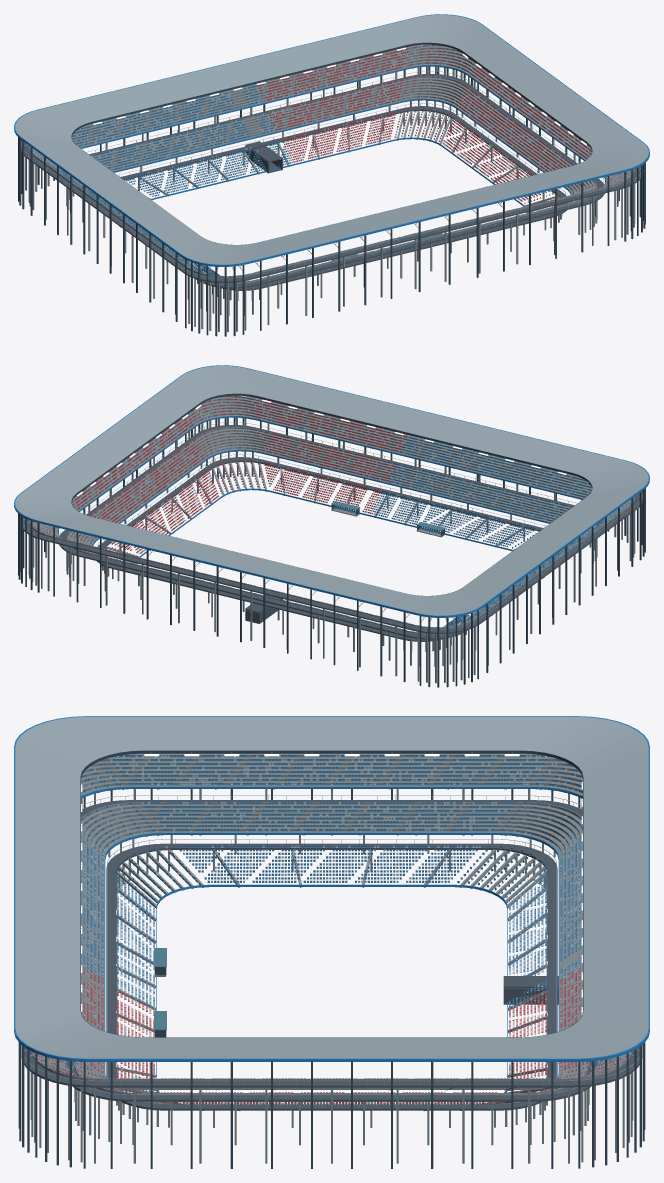
File: classic-upgraded.glb
The picture shows the model from 3 angles, top to bottom: view 1: azimuth 30°, elevation 25°; view 2: azimuth 150°, elevation 25°; view 3: azimuth 270°, elevation 25°; orthographic projection. The views are drawn at different scales.
Visible parts, largest first — view 1: bowl_fixed_Roof silver.001, bowl_fixed_Concrete.001, bowl_fixed_seats_away.001, bowl_fixed_seats_home.001, bowl_fixed_Dark concrete.001, bowl_fixed_seats_neutral.001, bowl_fixed_Trim blue.001, bowl_fixed_Steel navy.001, front_03_Roof silver.001, front_08_Roof silver.001, front_08_Dark concrete.001, front_03_Dark concrete.001 (+18 smaller); view 2: bowl_fixed_Roof silver.001, bowl_fixed_Concrete.001, bowl_fixed_Dark concrete.001, bowl_fixed_Steel navy.001, front_08_Concrete.001, front_03_Concrete.001, front_08_Roof silver.001, front_03_Roof silver.001, bowl_fixed_seats_away.001, bowl_fixed_Trim blue.001, front_06_Concrete.001, front_10_Concrete.001 (+26 smaller); view 3: bowl_fixed_Roof silver.001, bowl_fixed_Concrete.001, bowl_fixed_seats_home.001, bowl_fixed_Dark concrete.001, bowl_fixed_Steel navy.001, bowl_fixed_Trim blue.001, front_03_Roof silver.001, front_08_Roof silver.001, bowl_fixed_seats_neutral.001, front_06_Roof silver.001, bowl_fixed_seats_away.001, front_01_Concrete.001 (+24 smaller).
Part boxes in pixels (<box>): bowl_fixed_Roof silver.001: <box>15,14,641,268</box>; bowl_fixed_Concrete.001: <box>28,44,591,298</box>; bowl_fixed_seats_away.001: <box>256,45,587,202</box>; bowl_fixed_seats_home.001: <box>30,84,291,275</box>; bowl_fixed_Dark concrete.001: <box>21,74,599,279</box>; bowl_fixed_seats_neutral.001: <box>30,45,583,275</box>; bowl_fixed_Trim blue.001: <box>14,14,642,267</box>; bowl_fixed_Steel navy.001: <box>18,42,586,292</box>; front_03_Roof silver.001: <box>247,212,405,281</box>; front_08_Roof silver.001: <box>445,166,624,233</box>; front_08_Dark concrete.001: <box>433,187,619,245</box>; front_03_Dark concrete.001: <box>248,239,403,288</box>; bowl_fixed_Roof silver.001: <box>15,376,641,638</box>; bowl_fixed_Concrete.001: <box>28,412,628,683</box>; bowl_fixed_Dark concrete.001: <box>20,434,637,641</box>; bowl_fixed_Steel navy.001: <box>18,402,593,687</box>; front_08_Concrete.001: <box>250,396,398,495</box>; front_03_Concrete.001: <box>437,447,591,547</box>; front_08_Roof silver.001: <box>247,368,405,484</box>; front_03_Roof silver.001: <box>436,422,624,526</box>; bowl_fixed_seats_away.001: <box>33,432,227,586</box>; bowl_fixed_Trim blue.001: <box>14,375,643,626</box>; front_06_Concrete.001: <box>357,432,458,516</box>; front_10_Concrete.001: <box>187,395,269,494</box>; bowl_fixed_Roof silver.001: <box>88,716,648,1107</box>; bowl_fixed_Concrete.001: <box>102,753,633,1163</box>; bowl_fixed_seats_home.001: <box>199,755,582,1008</box>; bowl_fixed_Dark concrete.001: <box>93,800,642,1110</box>; bowl_fixed_Steel navy.001: <box>144,750,645,1168</box>; bowl_fixed_Trim blue.001: <box>86,716,649,1102</box>; front_03_Roof silver.001: <box>15,747,107,948</box>; front_08_Roof silver.001: <box>15,910,107,1078</box>; bowl_fixed_seats_neutral.001: <box>199,755,625,1104</box>; front_06_Roof silver.001: <box>15,865,107,993</box>; bowl_fixed_seats_away.001: <box>199,966,630,1104</box>; front_01_Concrete.001: <box>81,779,203,887</box>.
Bounding box in the file's own units: 123 × 18.67 × 96.4.
